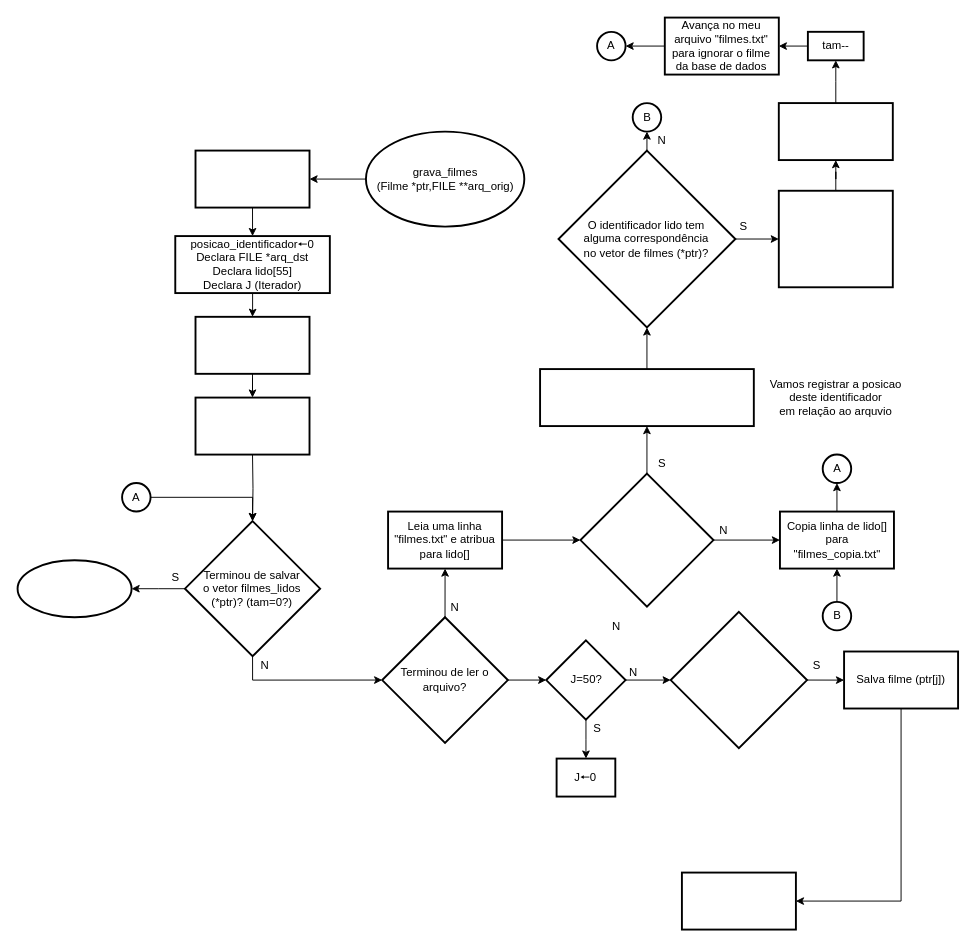
This 975x946 diagram has some shape labels left out. Here are the shapes that lost their labels. From the top down, the box of each, then its label:
(777, 102, 893, 161): Remove Filme salvo do vetor filmes_lidos(*ptr)
(194, 149, 310, 208): Contabiliza quantos filmes temos para salvar e atribui esse valor a tam
(777, 189, 893, 288): Salva o filme correspondente do vetor filmes_lidos(*ptr) Para "filmes_copia.txt"
(194, 315, 310, 374): Cria um novo arquivo "filmes_copia.txt" e atribui ao ponteiro *arq_dst
(539, 368, 754, 427): posicao_identificador🠔Posicao atual do arquivo - Tamanho de lido[]
(194, 396, 310, 455): Posiciona *arq_orig no inicio de "filmes.txt"
(579, 472, 714, 607): Encontramos um identificador?
(16, 559, 132, 618): Retorna 0
(669, 610, 808, 749): Identificador do ptr[j] diferente de zero?
